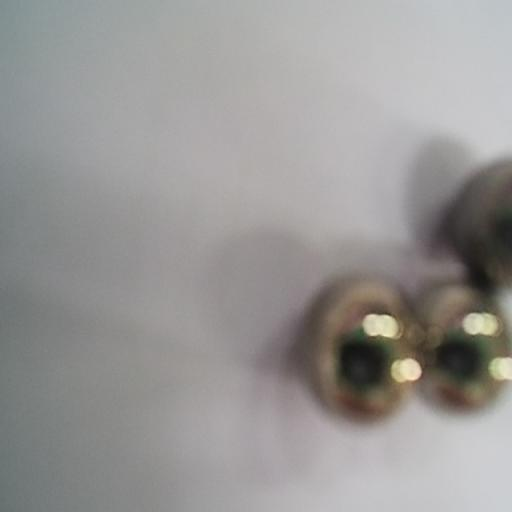steel-ball: (292, 263, 424, 428), (425, 269, 512, 409), (452, 156, 512, 278)
